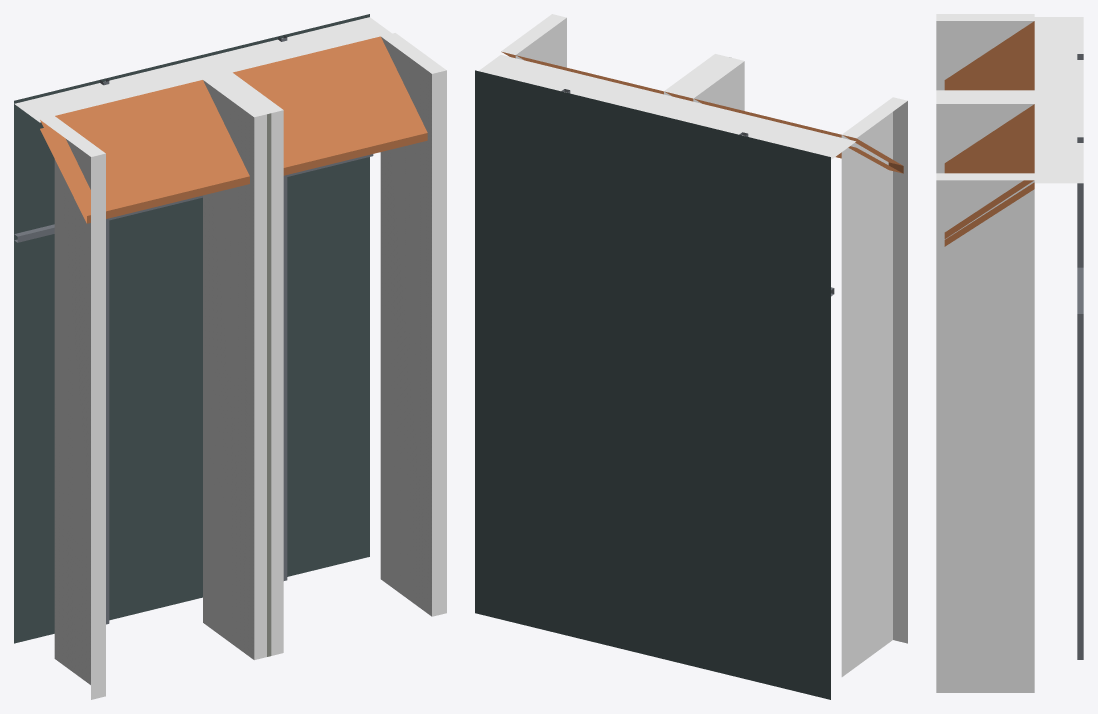
The model's file is base-w1_close.fbx.
3 renders of one model, left to right at view 1: azimuth 30°, elevation 25°; view 2: azimuth 150°, elevation 25°; view 3: azimuth 270°, elevation 25°, orthographic. The views are drawn at different scales.
Parts seen in each view (by area): view 1: a2002/600/base-w1_close; view 2: a2002/600/base-w1_close; view 3: a2002/600/base-w1_close.
Part boxes in pixels (bbox=[...]): a2002/600/base-w1_close: bbox=[14, 14, 446, 699]; a2002/600/base-w1_close: bbox=[475, 14, 907, 699]; a2002/600/base-w1_close: bbox=[936, 14, 1083, 692].
Size of the model in its own units: 2.4 by 3.5 by 0.901.
